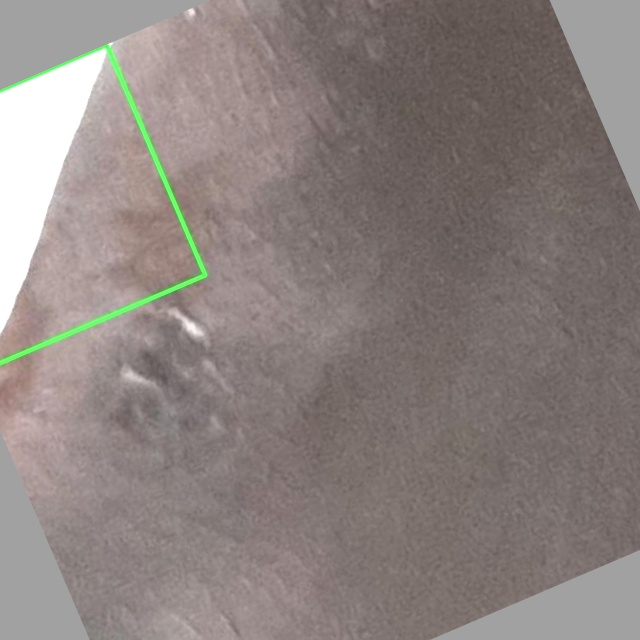Eczema: (0, 45, 205, 362)
